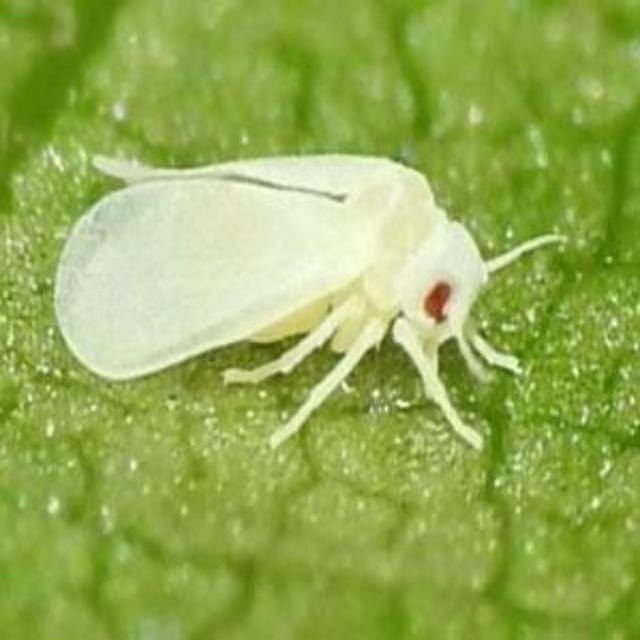Silverleaf whitefly: (32, 120, 562, 474)
